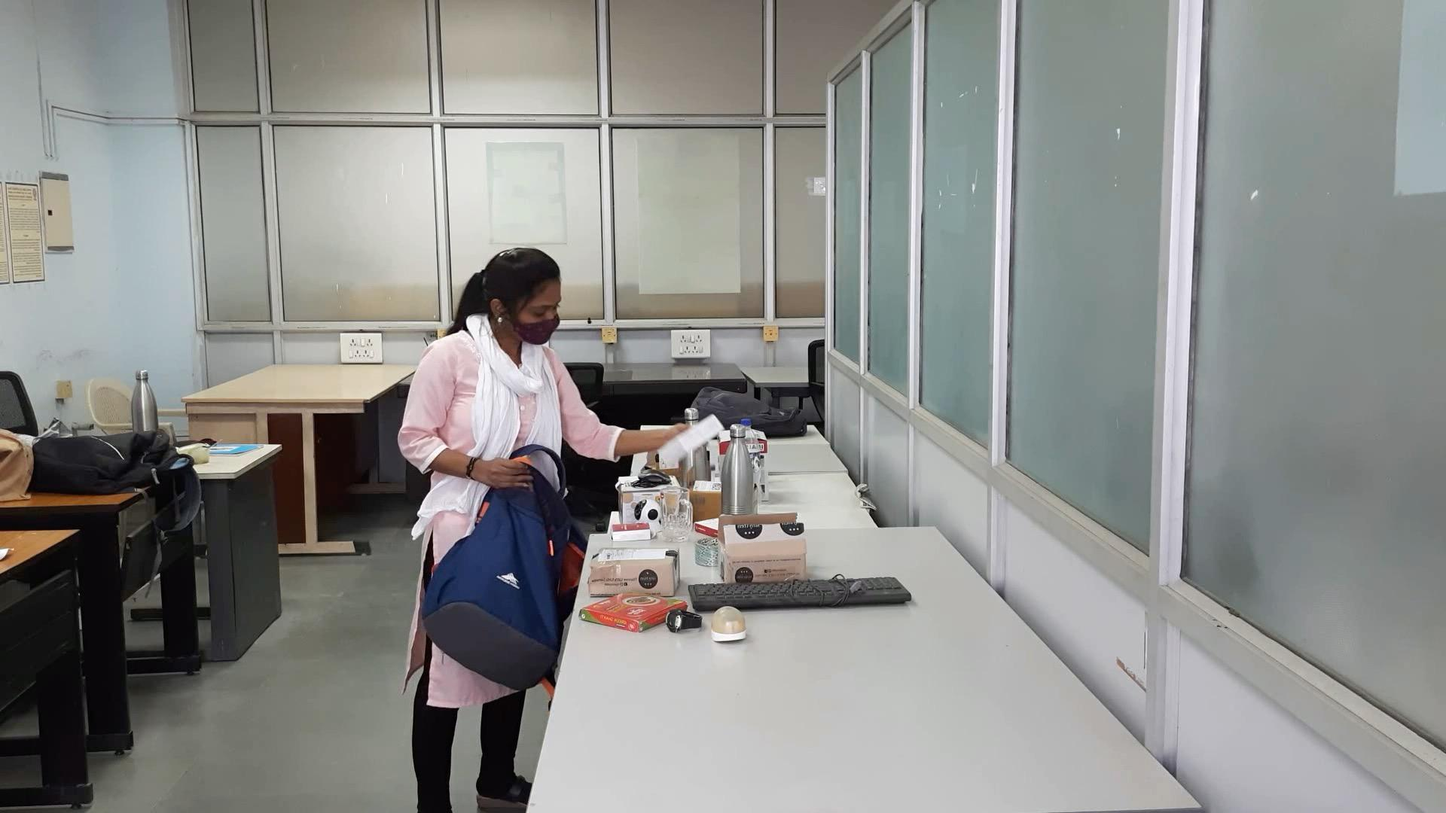shoplifting: (372, 342, 760, 776)
